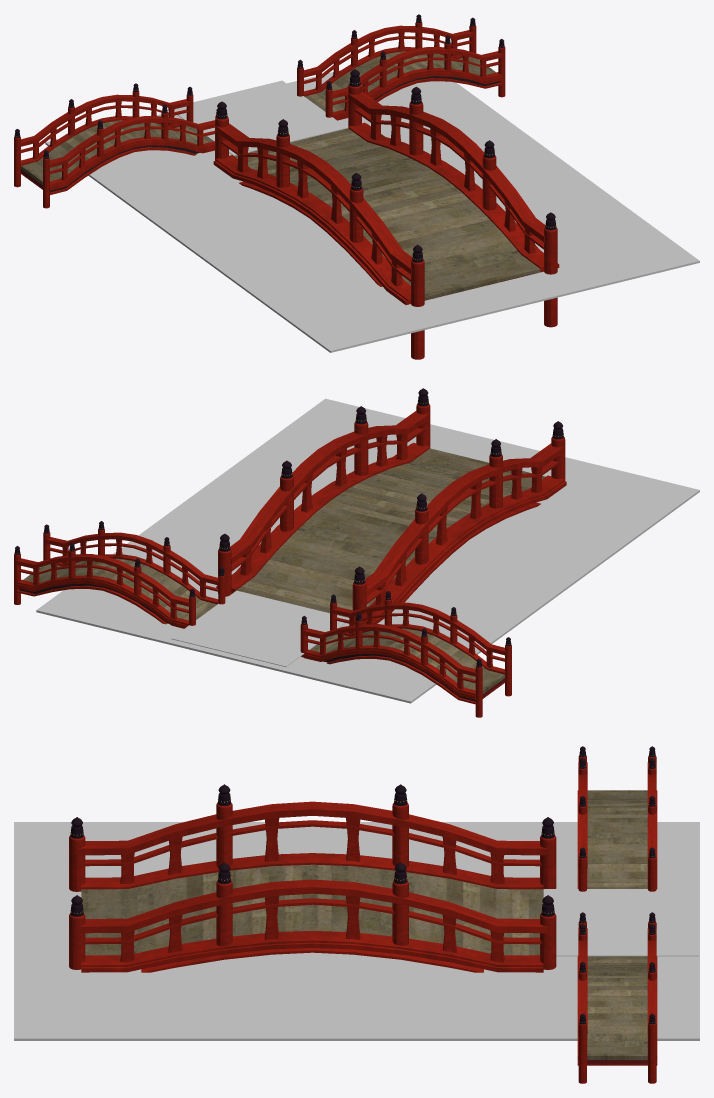
The model's file is hashi_yuka.fbx.
3 views of the same model, one above another, from view 1: azimuth 30°, elevation 25°; view 2: azimuth 150°, elevation 25°; view 3: azimuth 270°, elevation 25° (orthographic). The views are drawn at different scales.
Parts seen in each view (by area): view 1: yuka2, hashi1, hashi6, hashi7, yuka1; view 2: yuka2, hashi1, hashi6, hashi7, yuka1; view 3: yuka2, hashi1, hashi7, yuka1, hashi6.
Part boxes in pixels (bbox=[...]): yuka2: bbox=[45, 70, 699, 352]; hashi1: bbox=[213, 69, 559, 359]; hashi6: bbox=[14, 83, 217, 208]; hashi7: bbox=[297, 14, 505, 120]; yuka1: bbox=[174, 80, 346, 155]; yuka2: bbox=[36, 398, 699, 703]; hashi1: bbox=[216, 388, 566, 624]; hashi6: bbox=[300, 591, 511, 717]; hashi7: bbox=[14, 521, 225, 628]; yuka1: bbox=[171, 590, 349, 666]; yuka2: bbox=[14, 822, 699, 1040]; hashi1: bbox=[69, 784, 556, 972]; hashi7: bbox=[577, 912, 657, 1083]; yuka1: bbox=[543, 889, 699, 956]; hashi6: bbox=[577, 746, 657, 891].
Size of the model in its own units: 2324 by 671 by 2488.
